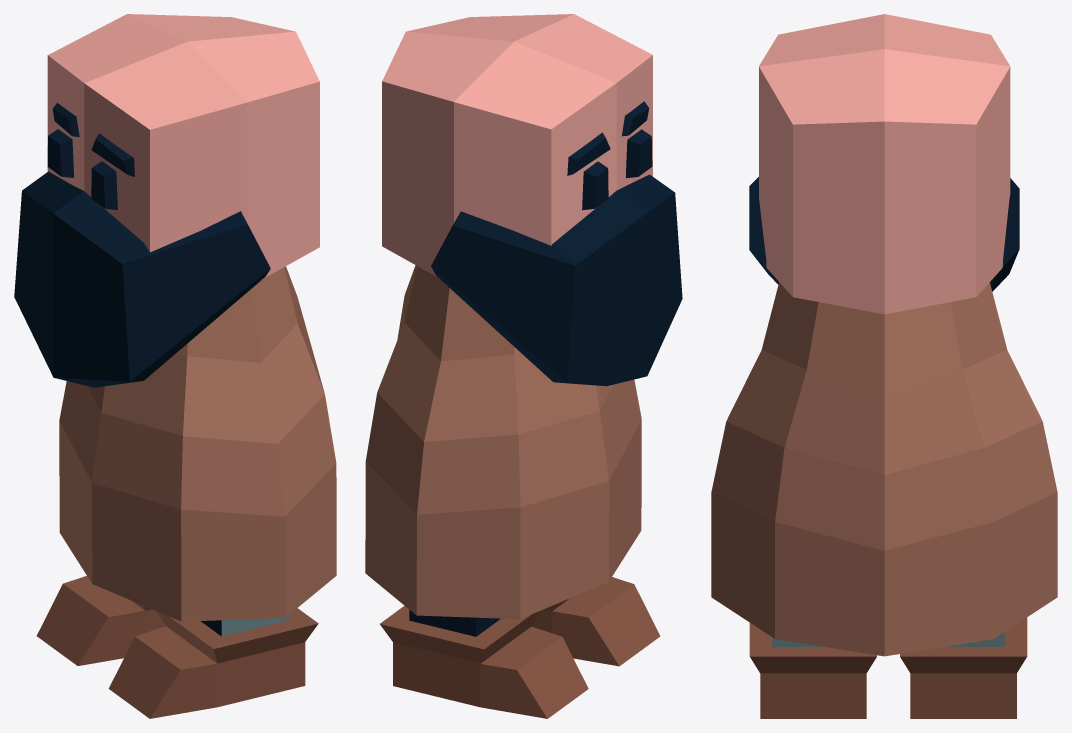
File: SK_Standard_Citizen.fbx
3 views of the same model, side by side, from view 1: azimuth 30°, elevation 25°; view 2: azimuth 150°, elevation 25°; view 3: azimuth 270°, elevation 25° (orthographic). The views are drawn at different scales.
Visible parts, largest first — view 1: SK_Character.005; view 2: SK_Character.005; view 3: SK_Character.005.
Boxes of the visible parts, x1,y1,x2,y2 form: SK_Character.005: [14, 14, 336, 718]; SK_Character.005: [365, 14, 682, 718]; SK_Character.005: [711, 14, 1057, 718].
Size of the model in its own units: 58.74 by 130 by 63.84.
